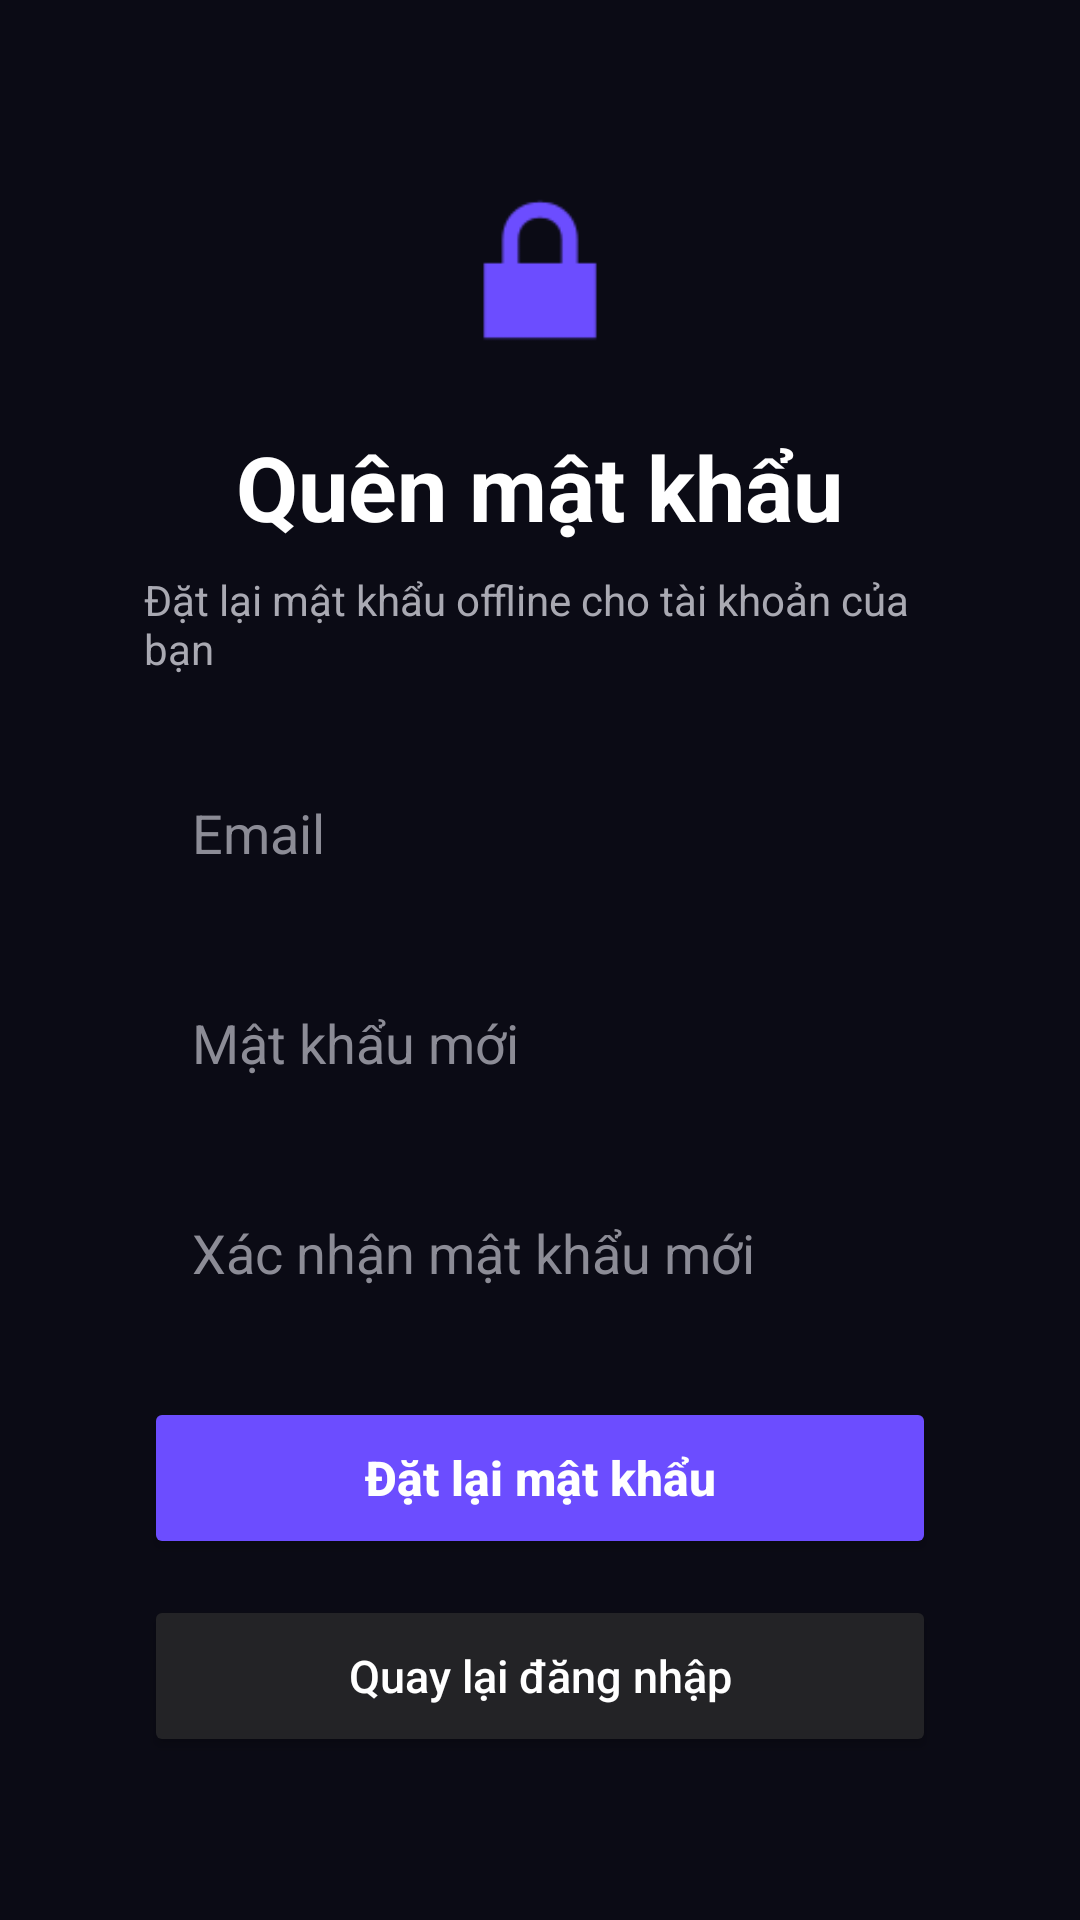

Where to tap for icons on this 1080 × 1920 app screen, as point (x, y):
lock: point (540, 270)
